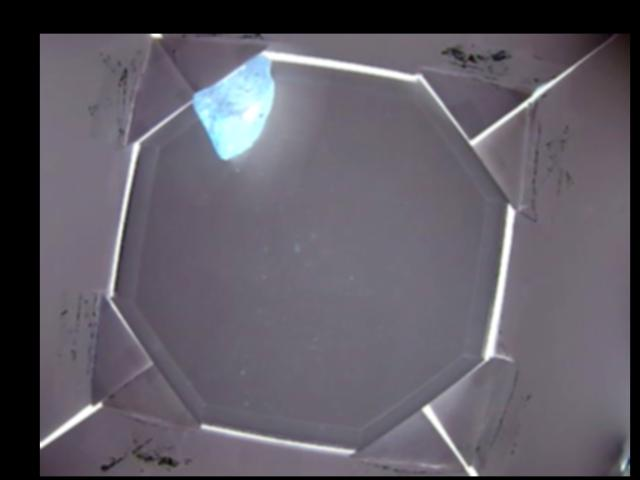Brisk: (192, 54, 275, 159)
